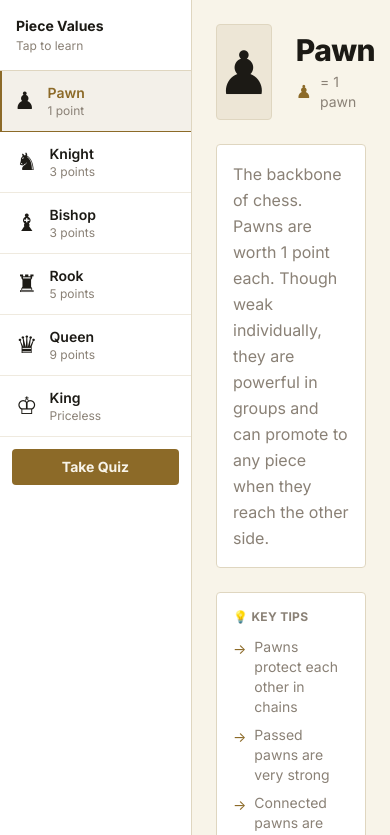
Test: PieceValuesPage › picking the correct answer highlights it and allows advancing
What coordinates should you click on to do the following:
click the button "Take Quiz"
I would click on:
 (96, 467)
Its box is left=12, top=449, right=179, bottom=485.
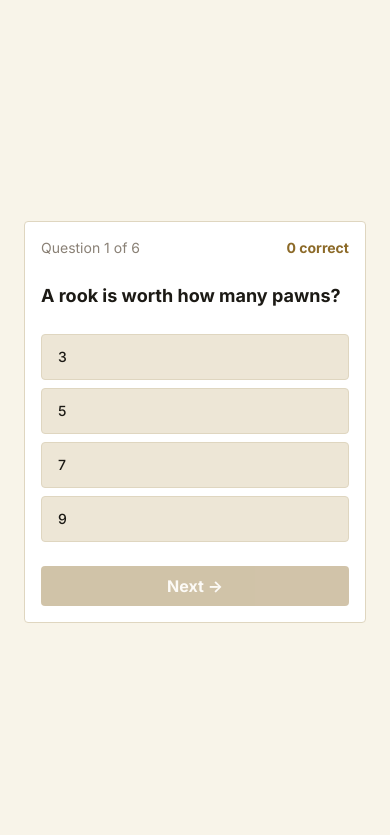
Q1: "A rook is worth how many pawns?" answer "5"
What coordinates should you click on to do the following:
click the button "5"
I would click on:
 (62, 410)
Its box is left=41, top=388, right=349, bottom=434.
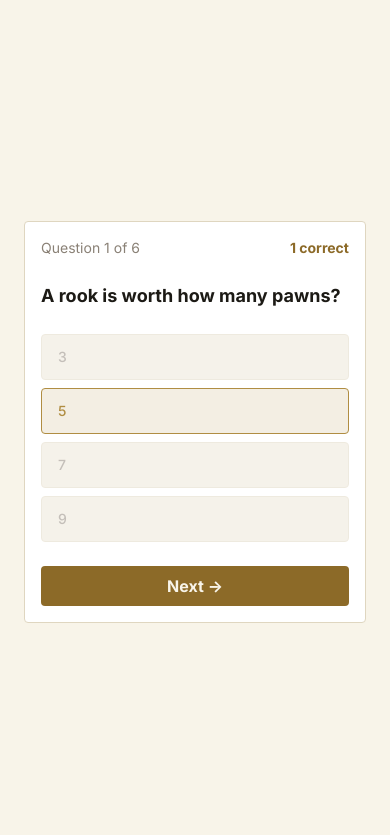
Expected: the button "Next →" is enabled, left=41, top=566, right=349, bottom=606
